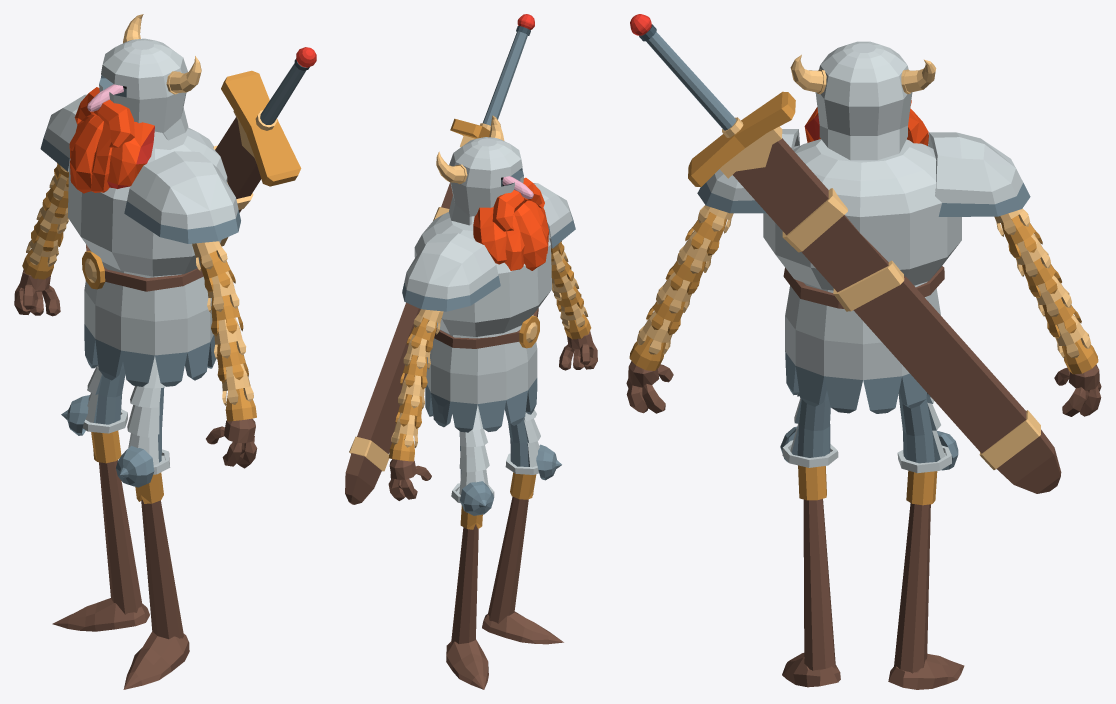
File: scene_aMb5BaoTsS.glb
3 renders of one model, left to right at view 1: azimuth 30°, elevation 25°; view 2: azimuth 150°, elevation 25°; view 3: azimuth 270°, elevation 25°, orthographic. The views are drawn at different scales.
Visible parts, largest first — view 1: group1477189456, group433037720, group583455388, group1977948371, group1036236753, group1354248907, group750357067, group699281322, group720862975, group2133370510, group2128036144, group519165365 (+2 smaller); view 2: group1477189456, group1977948371, group1762388342, group433037720, group1036236753, group2133370510, group720862975, group699281322, group750357067, group1354248907, group519165365, group2128036144 (+2 smaller); view 3: group1977948371, group433037720, group1477189456, group1036236753, group1354248907, group2133370510, group750357067, group699281322, group1762388342, group519165365, group2128036144, group583455388 (+2 smaller).
Part boxes in pixels (x1=…): group1477189456: x1=84, y1=261, x2=216, y2=386; group433037720: x1=67, y1=127, x2=227, y2=276; group583455388: x1=124, y1=151, x2=240, y2=243; group1977948371: x1=213, y1=47, x2=316, y2=246; group1036236753: x1=87, y1=14, x2=201, y2=140; group1354248907: x1=192, y1=241, x2=257, y2=468; group750357067: x1=52, y1=430, x2=149, y2=631; group699281322: x1=123, y1=472, x2=189, y2=689; group720862975: x1=69, y1=87, x2=154, y2=193; group2133370510: x1=14, y1=163, x2=68, y2=316; group2128036144: x1=116, y1=356, x2=170, y2=487; group519165365: x1=61, y1=362, x2=127, y2=435; group1477189456: x1=425, y1=325, x2=537, y2=432; group1977948371: x1=345, y1=14, x2=534, y2=504; group1762388342: x1=402, y1=233, x2=500, y2=311; group433037720: x1=414, y1=212, x2=551, y2=336; group1036236753: x1=436, y1=115, x2=533, y2=225; group2133370510: x1=388, y1=309, x2=443, y2=500; group720862975: x1=473, y1=177, x2=548, y2=270; group699281322: x1=482, y1=472, x2=563, y2=644; group750357067: x1=446, y1=505, x2=488, y2=689; group1354248907: x1=551, y1=241, x2=597, y2=370; group519165365: x1=451, y1=404, x2=494, y2=515; group2128036144: x1=505, y1=409, x2=561, y2=480; group1977948371: x1=630, y1=14, x2=1061, y2=493; group433037720: x1=763, y1=139, x2=961, y2=290; group1477189456: x1=785, y1=281, x2=940, y2=413; group1036236753: x1=790, y1=41, x2=936, y2=160; group1354248907: x1=626, y1=205, x2=733, y2=413; group2133370510: x1=994, y1=208, x2=1101, y2=416; group750357067: x1=888, y1=470, x2=964, y2=689; group699281322: x1=782, y1=465, x2=840, y2=687; group1762388342: x1=928, y1=132, x2=1030, y2=216; group519165365: x1=897, y1=391, x2=958, y2=473; group2128036144: x1=780, y1=391, x2=838, y2=467; group583455388: x1=697, y1=129, x2=799, y2=213.
Bounding box in the file's own units: 1.09 × 4.59 × 2.8.
